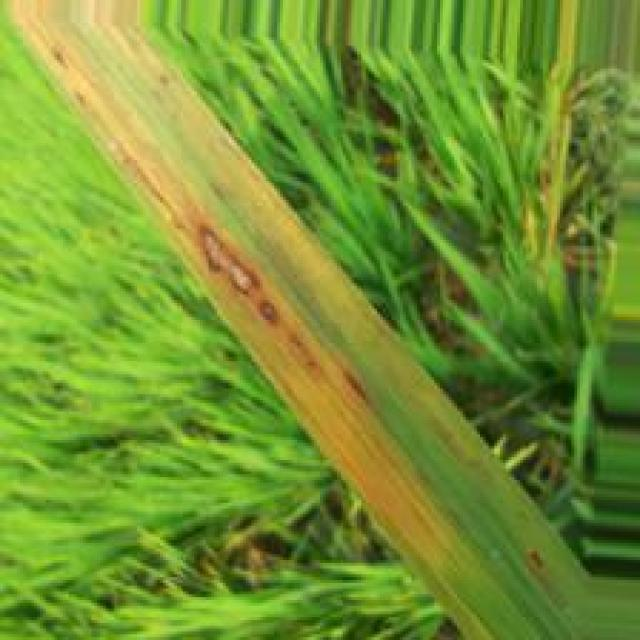Leaf_Blast: (0, 0, 464, 582)
